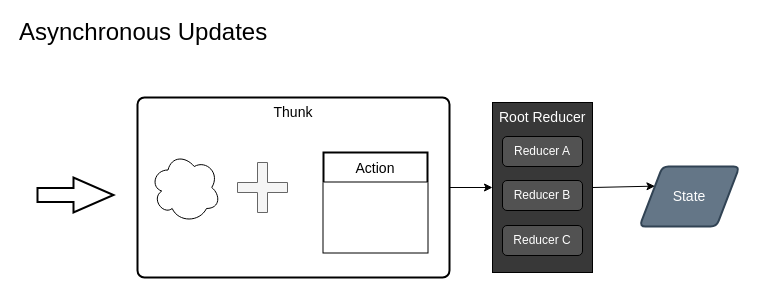
This 757x295 diagram has some shape labels left out. Here are the shapes that lost their labels. From the top down, the centre of each, then its label:
At [75,194]: "dispatch".
At [185,187]: "API".
At [375,217]: "type: string payload: any".
